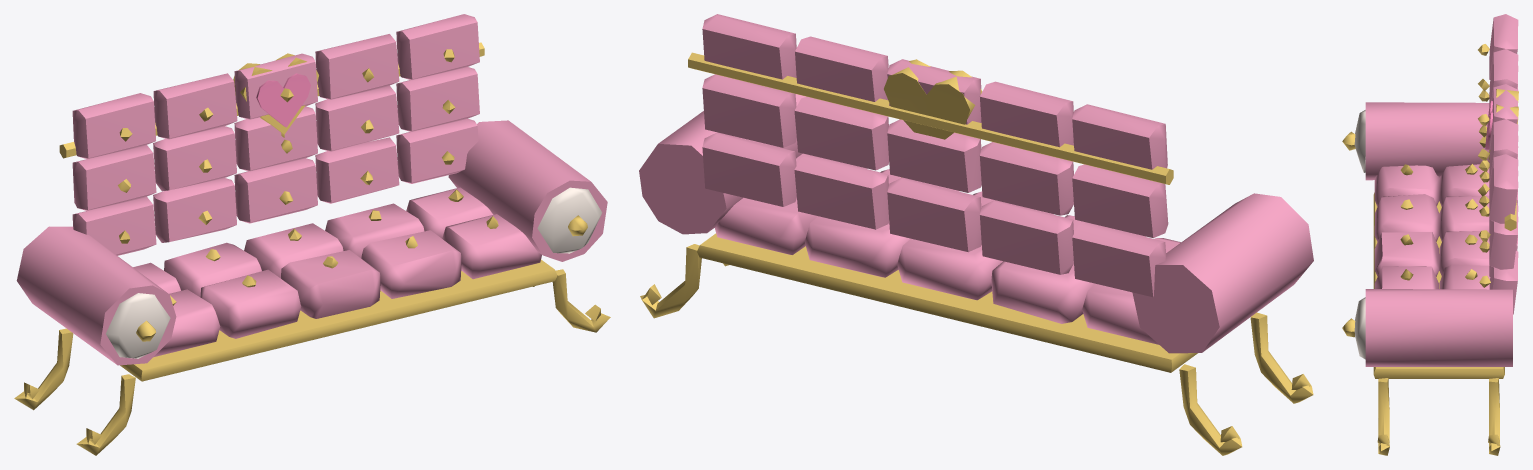
Rendered from bench_tufted.glb.
3 renders of one model, left to right at view 1: azimuth 30°, elevation 25°; view 2: azimuth 150°, elevation 25°; view 3: azimuth 270°, elevation 25°, orthographic. The views are drawn at different scales.
Parts seen in each view (by area): view 1: bench_tufted; view 2: bench_tufted; view 3: bench_tufted.
Boxes of the visible parts, x1=… form: bench_tufted: x1=14, y1=14, x2=610, y2=455; bench_tufted: x1=639, y1=14, x2=1313, y2=455; bench_tufted: x1=1342, y1=14, x2=1518, y2=455.
Bounding box in the file's own units: 2.36 × 1.2 × 0.7684.
